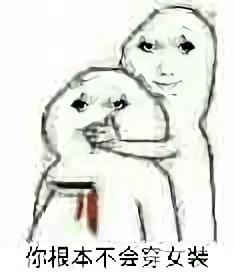dragon: (138, 35, 196, 89), (71, 93, 127, 123)
